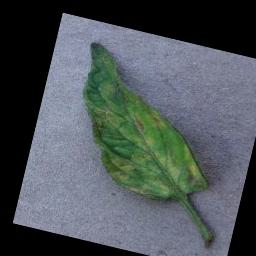Leaf_Mold: (59, 42, 233, 211)
